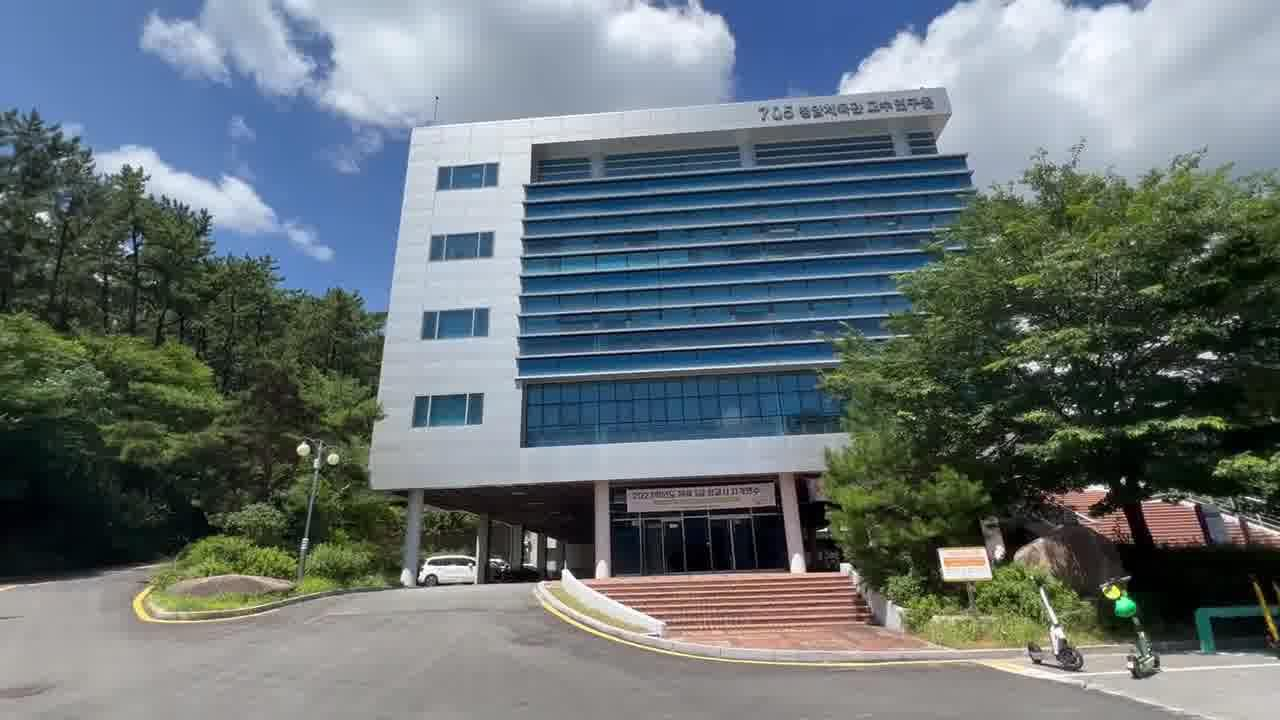building: (371, 92, 976, 569)
